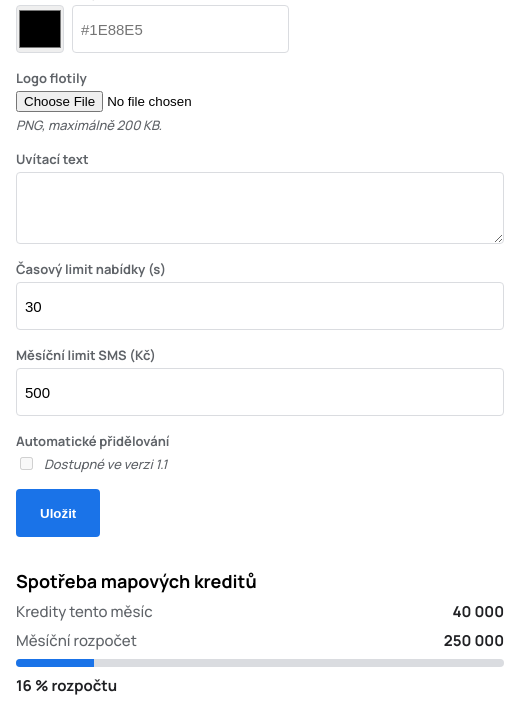
it: FleetTab — self-service form (UC-007 A6) › PUTs the settings on save with empty color/welcome mapped to null
(page scrolled)
Step 1. Click the button "Uložit" → (58, 513), box [16,489,100,537]
(page scrolled)
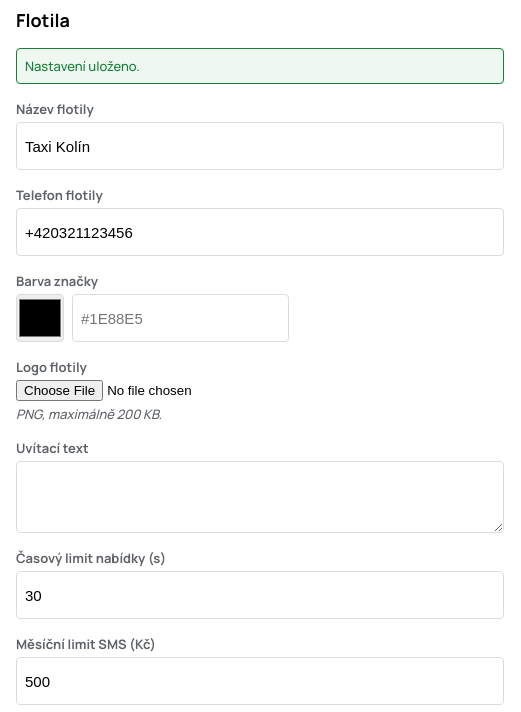
Check: the message shows "uloženo", box [25,57,140,75]
